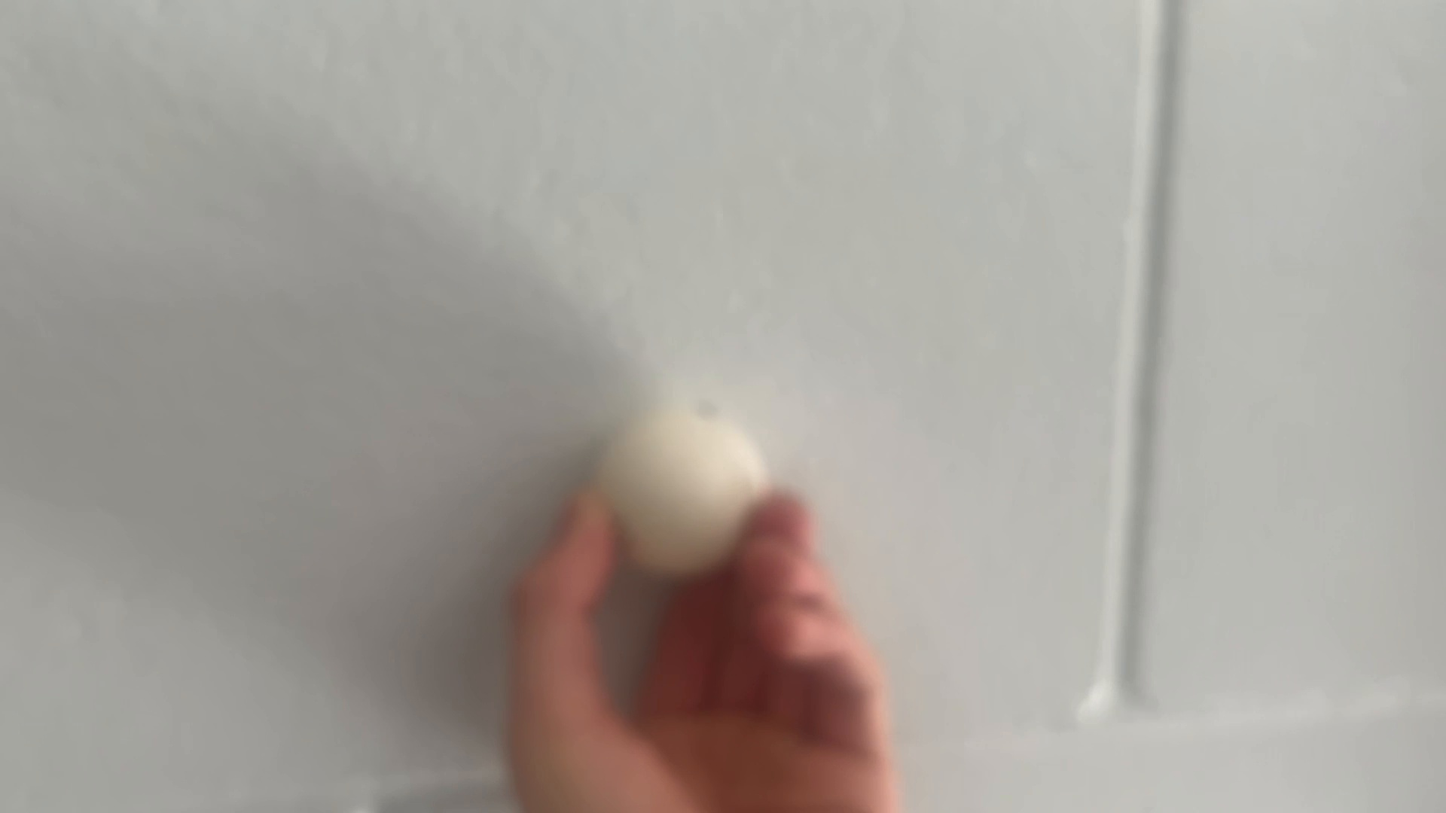Ball: (582, 394, 757, 585)
